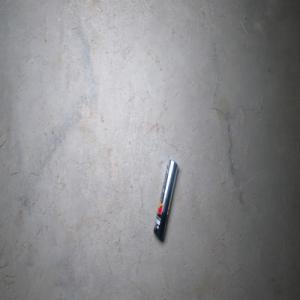Battery: (153, 159, 178, 240)
